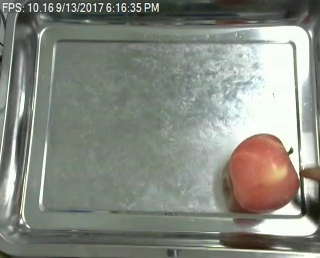Apple: (228, 132, 300, 211)
